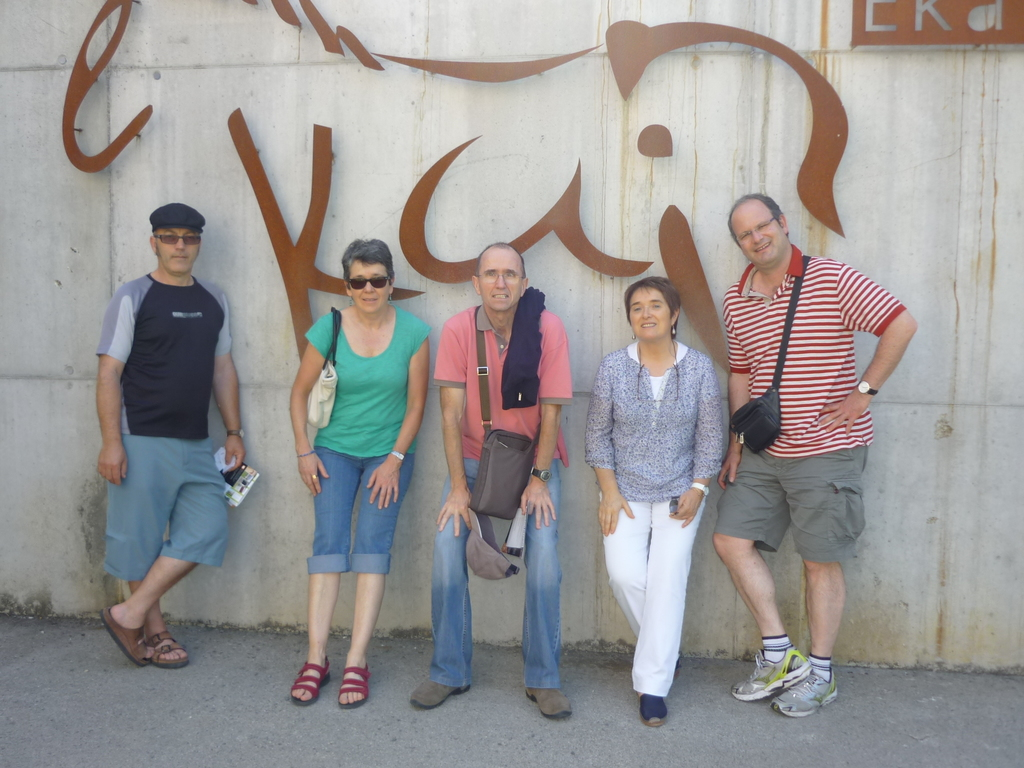Footwear: (730, 648, 810, 701), (773, 667, 833, 715), (99, 605, 146, 666), (409, 678, 470, 709), (290, 657, 327, 704), (338, 659, 369, 712), (141, 633, 187, 668), (525, 687, 572, 716), (637, 694, 669, 723)
